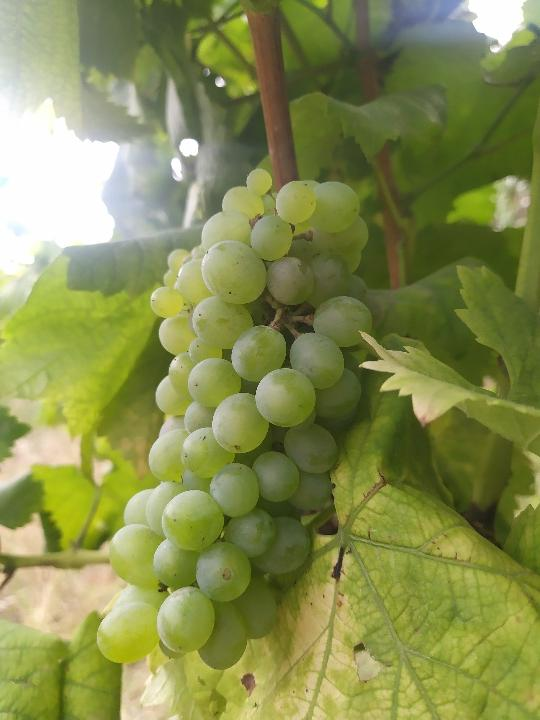grape: (92, 165, 373, 671)
